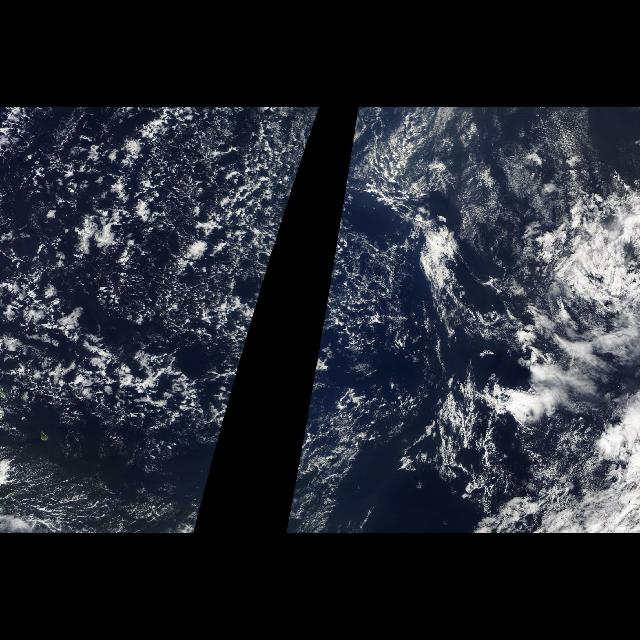Gravel: (2, 108, 320, 440), (307, 108, 418, 454)
Sugar: (0, 442, 202, 524)
